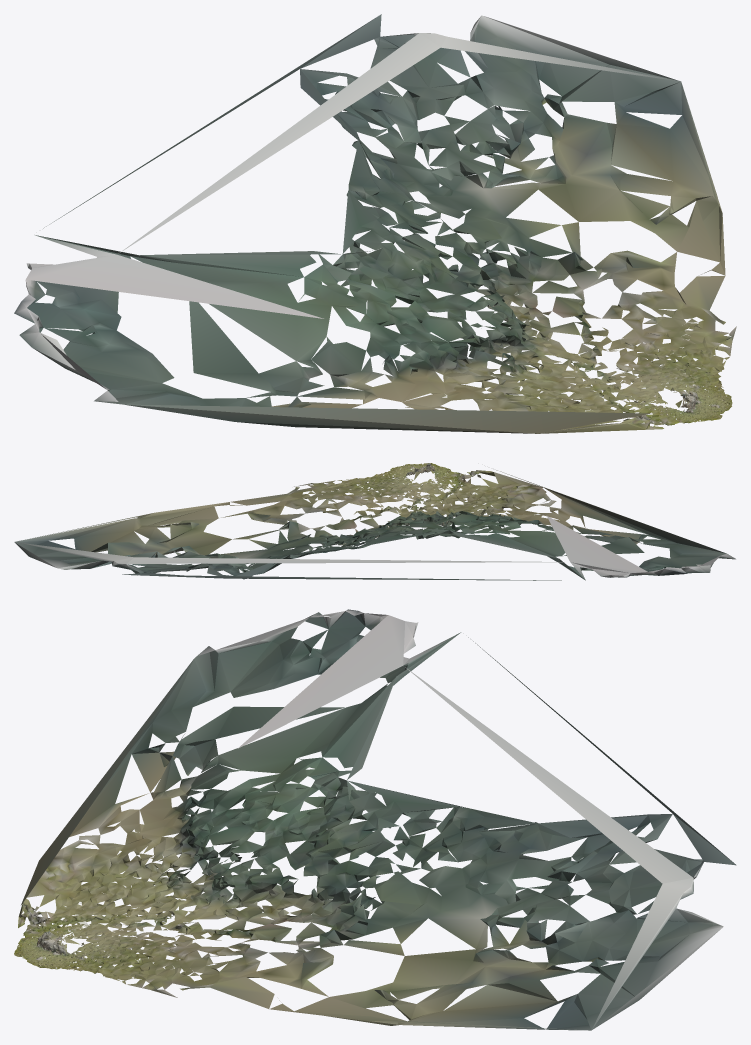
The model's file is before_vertex_colour.glb.
The picture shows the model from 3 angles, top to bottom: view 1: azimuth 30°, elevation 25°; view 2: azimuth 150°, elevation 25°; view 3: azimuth 270°, elevation 25°; orthographic projection. The views are drawn at different scales.
Bounding box in the file's own units: 603 × 87.6 × 495.
